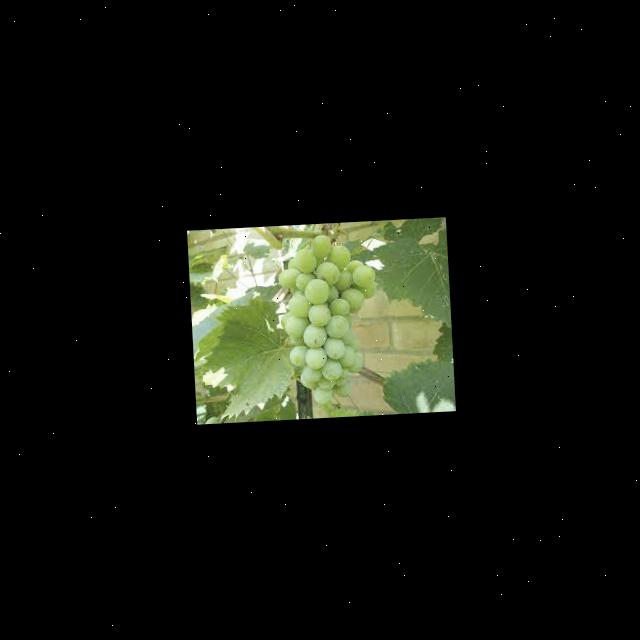grape: (275, 230, 382, 406)
